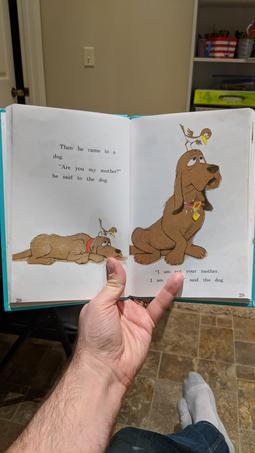text block: (47, 138, 124, 188), (146, 263, 232, 288)
